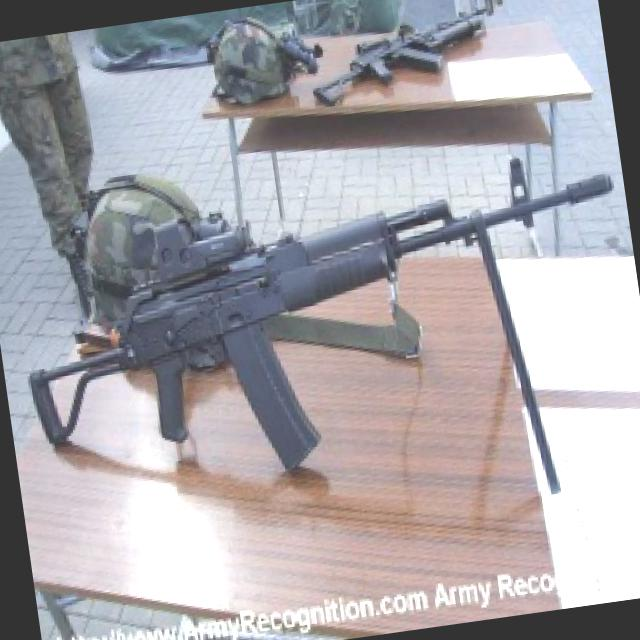long weapon: (29, 151, 632, 510)
